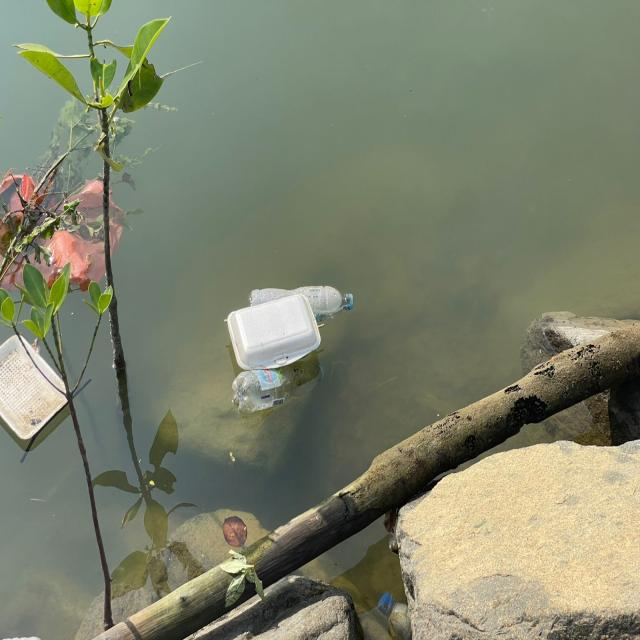Botol Plastik: (227, 362, 331, 413), (248, 279, 364, 323)
Bungkus Makanan: (2, 332, 76, 446), (224, 293, 323, 367)
Kantong Plastik: (1, 165, 129, 297)
